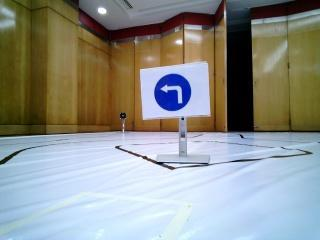left: (140, 69, 210, 117)
